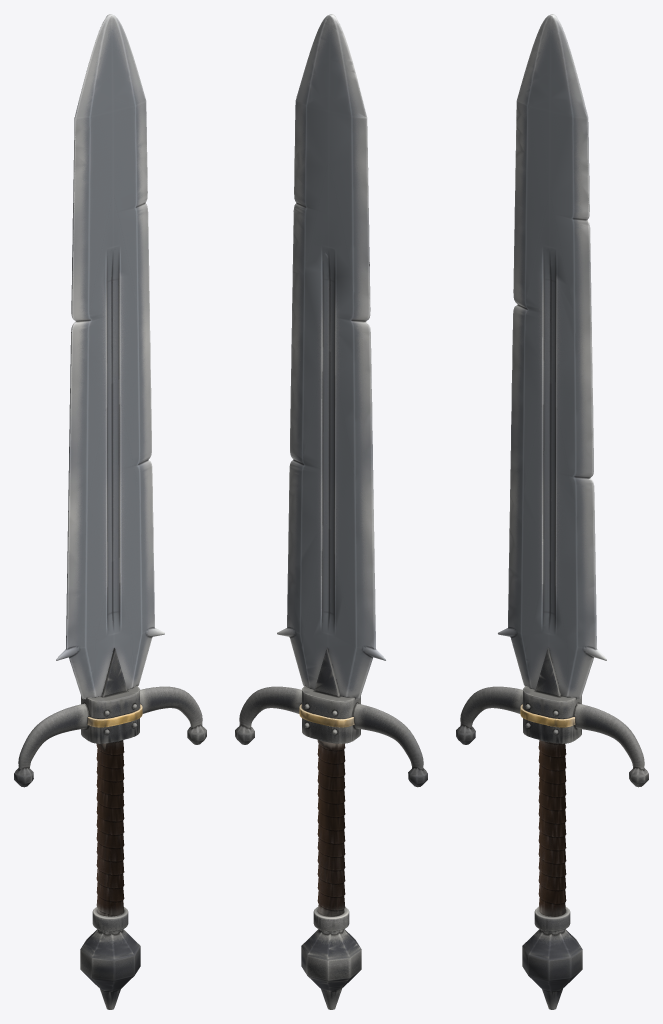
Rendered from weapon_greatsword.gltf.
3 renders of one model, left to right at view 1: azimuth 30°, elevation 25°; view 2: azimuth 150°, elevation 25°; view 3: azimuth 330°, elevation 25°, orthographic.
Parts seen in each view (by area): view 1: weapon_greatsword; view 2: weapon_greatsword; view 3: weapon_greatsword.
Boxes of the visible parts, x1,y1,x2,y2 form: weapon_greatsword: (14, 14, 206, 1009); weapon_greatsword: (235, 14, 427, 1009); weapon_greatsword: (456, 14, 648, 1009).
Size of the model in its own units: 0.356 by 1.79 by 0.092.
1 material, 1 textured.
